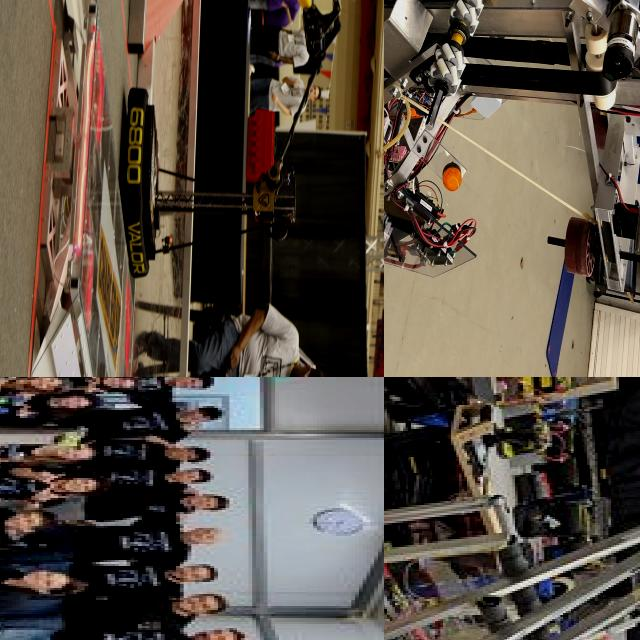FRC-Robots: (384, 0, 640, 359), (114, 0, 357, 266), (384, 456, 640, 640), (0, 377, 118, 529)
